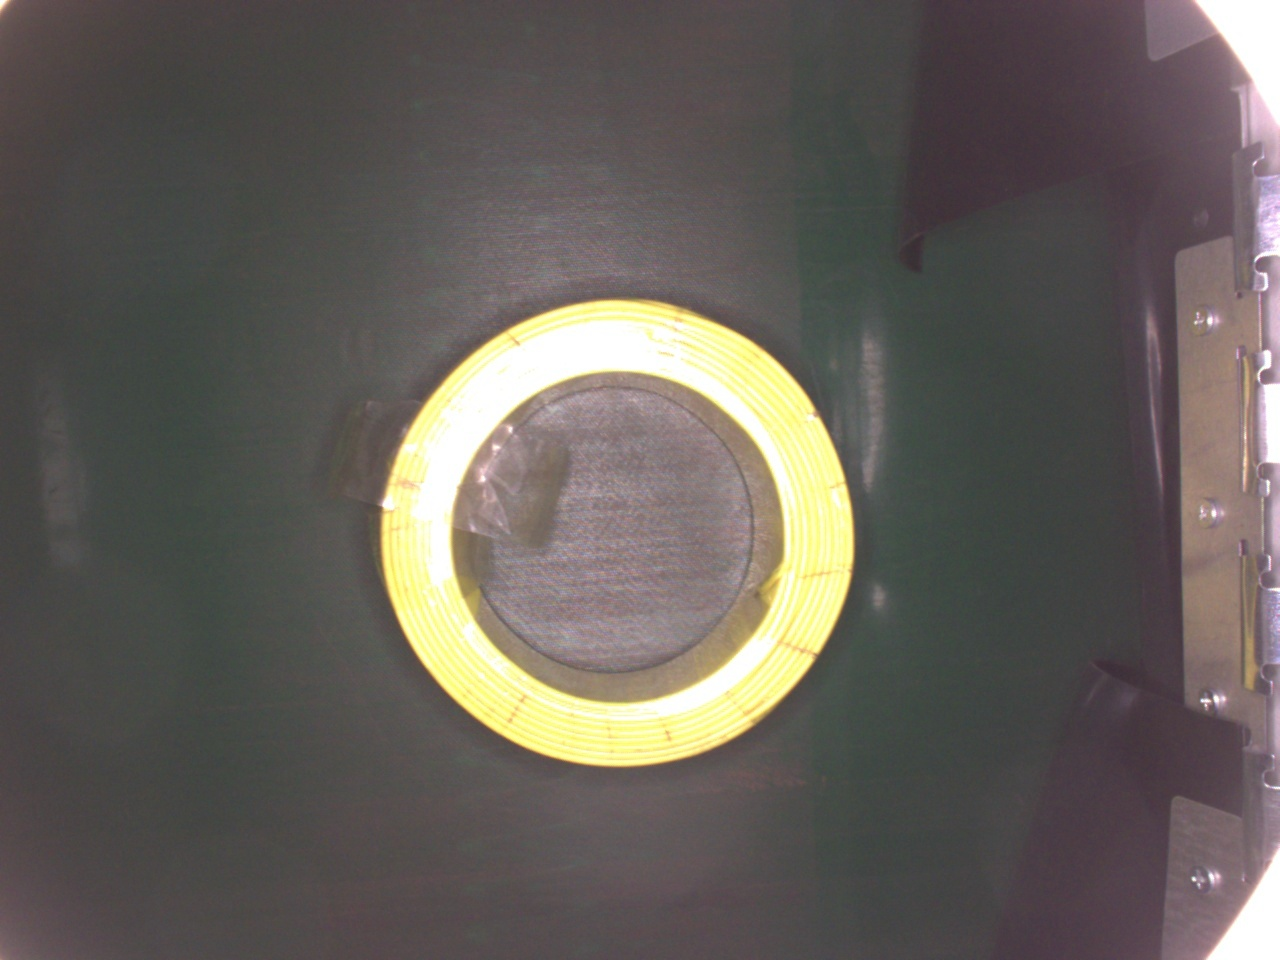yellow: (374, 295, 856, 771)
